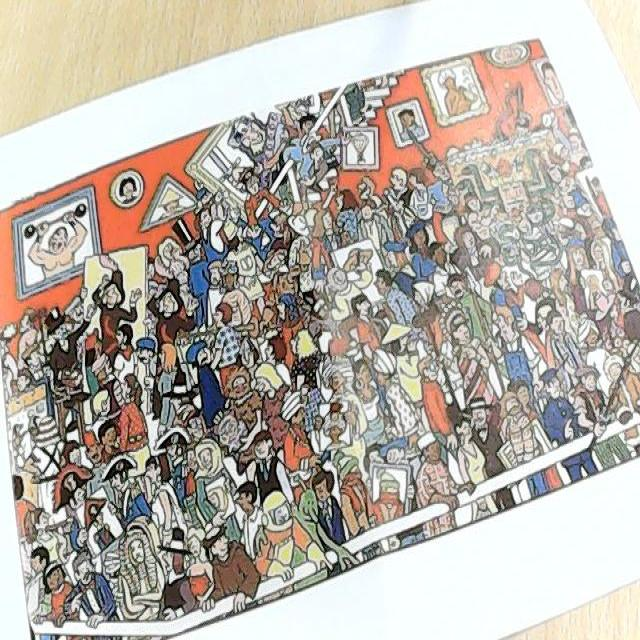waldo: (175, 403, 208, 441)
